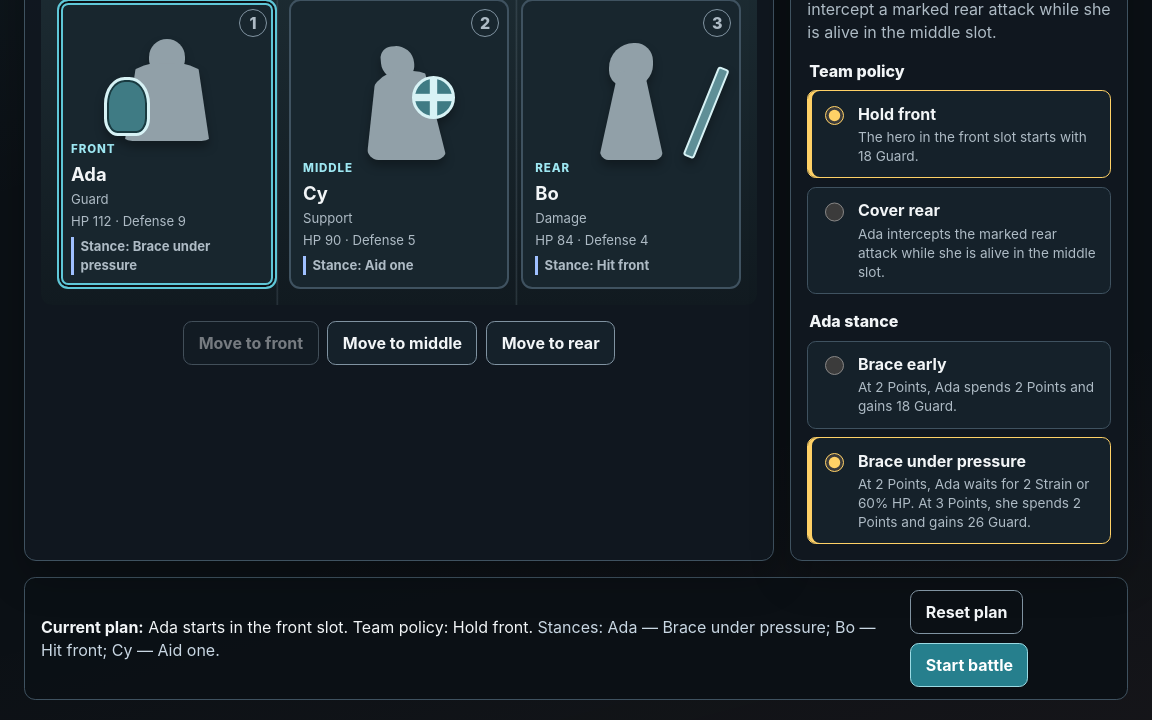
Test: combat lab journey › uses focused Key moments, explains timing, and shows all three chosen stances
(page scrolled)
Click the button "Start battle": (970, 665) [910,643,1028,687]
(page scrolled)
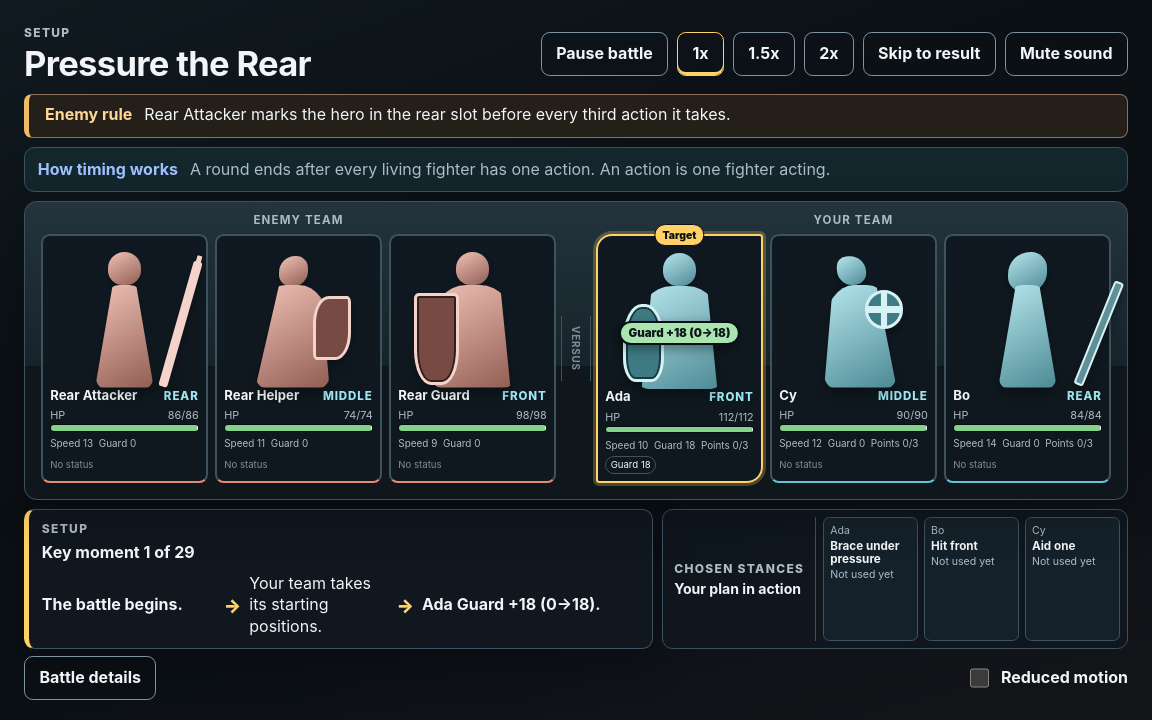
Check: the text "A round ends after every living fighter has one action" is shown, box [190,159,830,179]
Check: the 1st text "Setup" is shown, box [24,25,70,40]
Check: the element named "Current moment" shows "Key moment 1 of", box [24,509,653,649]
